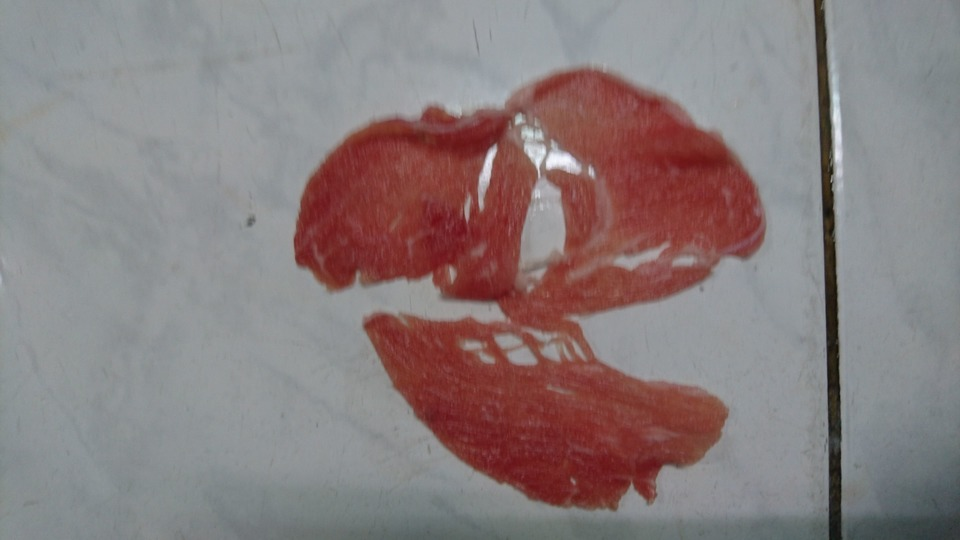restructured meat: (256, 50, 782, 503)
